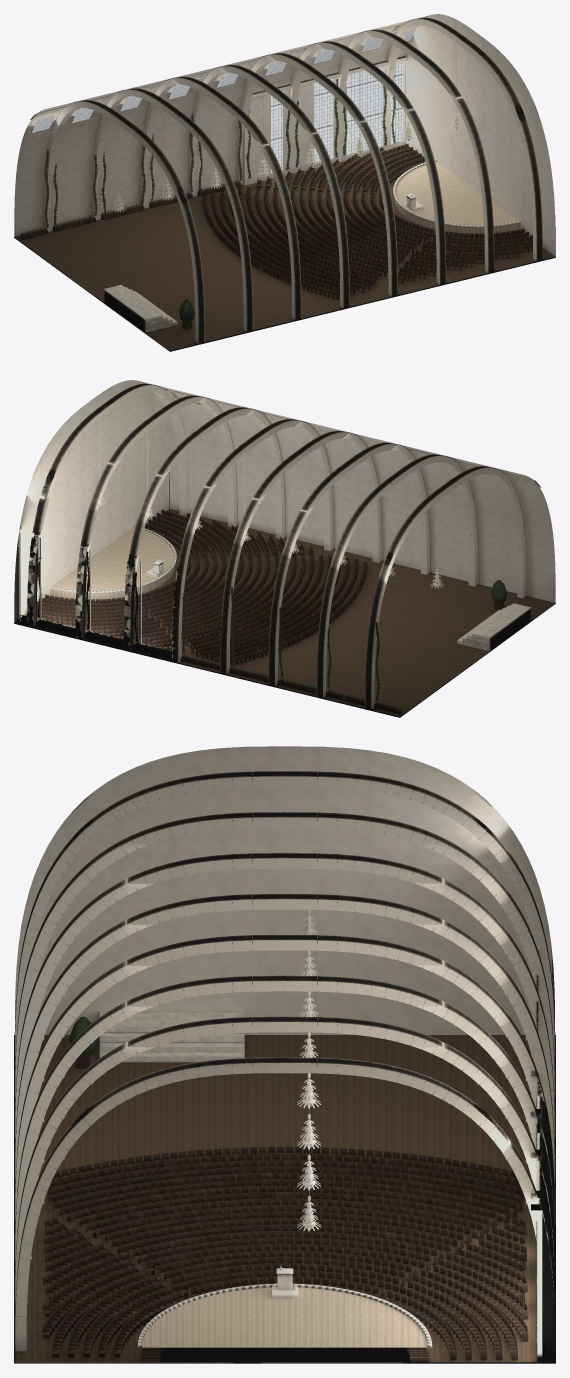
Rendered from einstein-gothenburg-lecture-hall.glb.
3 renders of one model, top to bottom at view 1: azimuth 30°, elevation 25°; view 2: azimuth 150°, elevation 25°; view 3: azimuth 270°, elevation 25°, orthographic. The views are drawn at different scales.
Parts seen in each view (by area): view 1: artifact_ribs, hall_floor, hall_envelope, end_walls, artifact_seats, seats_01, artifact_tall_windows, seats_02, artifact_stage, seats_03, far_platform, clerestory_windows (+4 smaller); view 2: artifact_ribs, hall_envelope, hall_floor, end_walls, artifact_seats, seats_01, seats_02, artifact_stage, seats_03, far_platform, flower_boxes, flowers (+2 smaller); view 3: artifact_ribs, end_walls, hall_floor, artifact_seats, seats_01, seats_02, artifact_stage, seats_03, far_platform, hall_envelope, stage_edge.
Part boxes in pixels (x1=…): artifact_ribs: x1=43, y1=17, x2=542, y2=343; hall_floor: x1=14, y1=148, x2=555, y2=351; hall_envelope: x1=14, y1=15, x2=429, y2=236; end_walls: x1=405, y1=14, x2=555, y2=256; artifact_seats: x1=337, y1=143, x2=532, y2=259; seats_01: x1=283, y1=153, x2=496, y2=278; artifact_tall_windows: x1=271, y1=61, x2=403, y2=173; seats_02: x1=229, y1=176, x2=417, y2=292; artifact_stage: x1=394, y1=161, x2=519, y2=234; seats_03: x1=202, y1=188, x2=358, y2=299; far_platform: x1=103, y1=285, x2=177, y2=332; clerestory_windows: x1=31, y1=27, x2=416, y2=133; artifact_ribs: x1=27, y1=383, x2=526, y2=709; hall_envelope: x1=18, y1=381, x2=555, y2=646; hall_floor: x1=14, y1=509, x2=555, y2=717; end_walls: x1=14, y1=380, x2=169, y2=622; artifact_seats: x1=37, y1=509, x2=232, y2=625; seats_01: x1=73, y1=519, x2=286, y2=644; seats_02: x1=151, y1=541, x2=340, y2=659; artifact_stage: x1=50, y1=527, x2=175, y2=600; seats_03: x1=210, y1=554, x2=367, y2=665; far_platform: x1=457, y1=603, x2=531, y2=651; flower_boxes: x1=20, y1=617, x2=401, y2=713; flowers: x1=22, y1=615, x2=401, y2=710; artifact_ribs: x1=15, y1=771, x2=554, y2=1351; end_walls: x1=14, y1=746, x2=555, y2=1034; hall_floor: x1=14, y1=1035, x2=555, y2=1363; artifact_seats: x1=42, y1=1244, x2=528, y2=1360; seats_01: x1=42, y1=1205, x2=528, y2=1319; seats_02: x1=44, y1=1166, x2=526, y2=1253; artifact_stage: x1=142, y1=1287, x2=427, y2=1347; seats_03: x1=47, y1=1146, x2=524, y2=1202; far_platform: x1=99, y1=1011, x2=244, y2=1062; hall_envelope: x1=531, y1=1096, x2=542, y2=1362; stage_edge: x1=137, y1=1283, x2=432, y2=1347.
Size of the model in its own units: 49.6 by 19.85 by 33.6.
5 materials, 4 textured.
